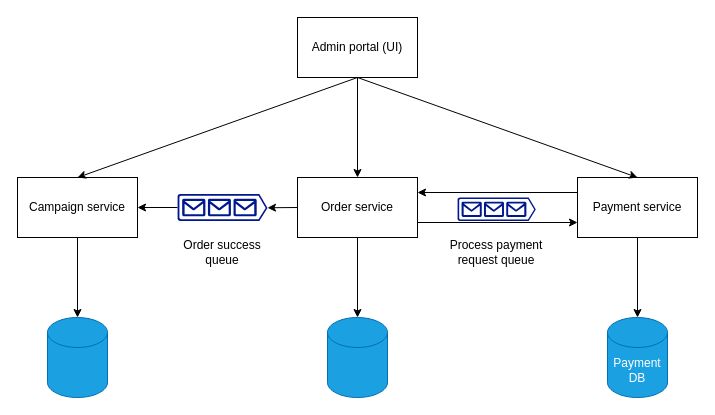
The diagram is 715 pixels wide and 415 high, and some of its shapes have lost their labels. Each missing label, with the centre of its shape:
"Campaign DB" goes at (77,357).
"Order DB" goes at (357,357).
